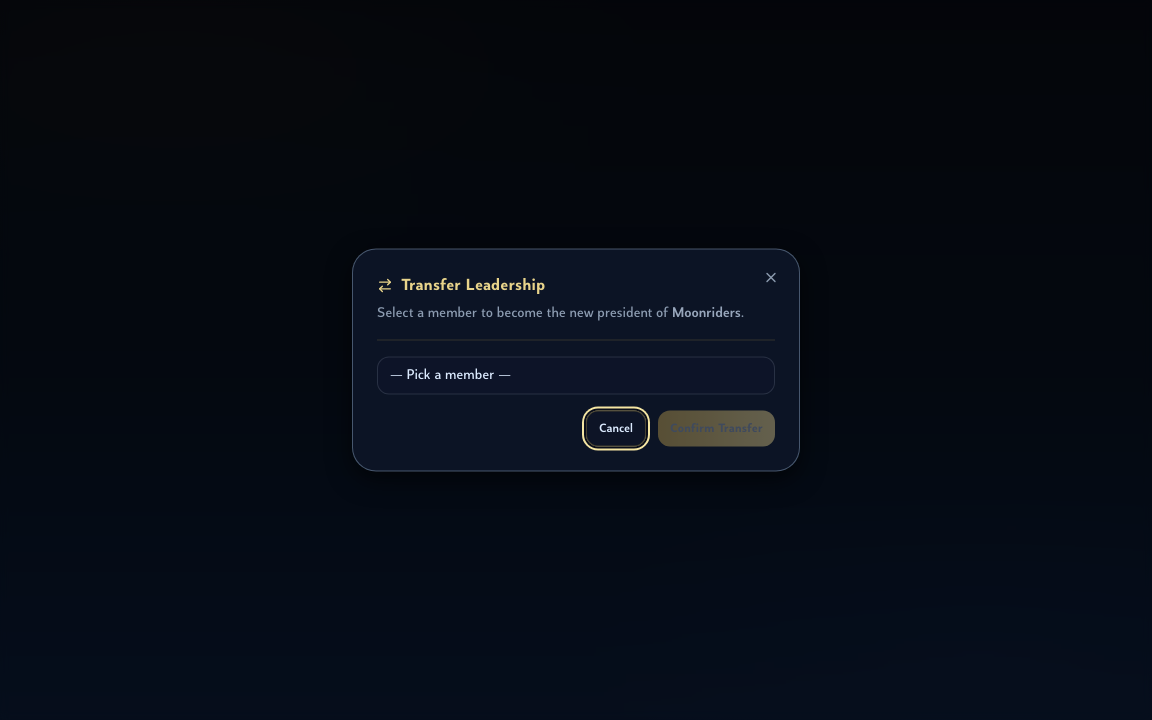
TransferLeadershipModal — failed transfer (Equoria-mr1kq) › shows mapped copy for a refusal
Step 1. Select "Second (member)" in the dropdown with test id "transfer-member-select" → (576, 376), box [377,356,775,394]
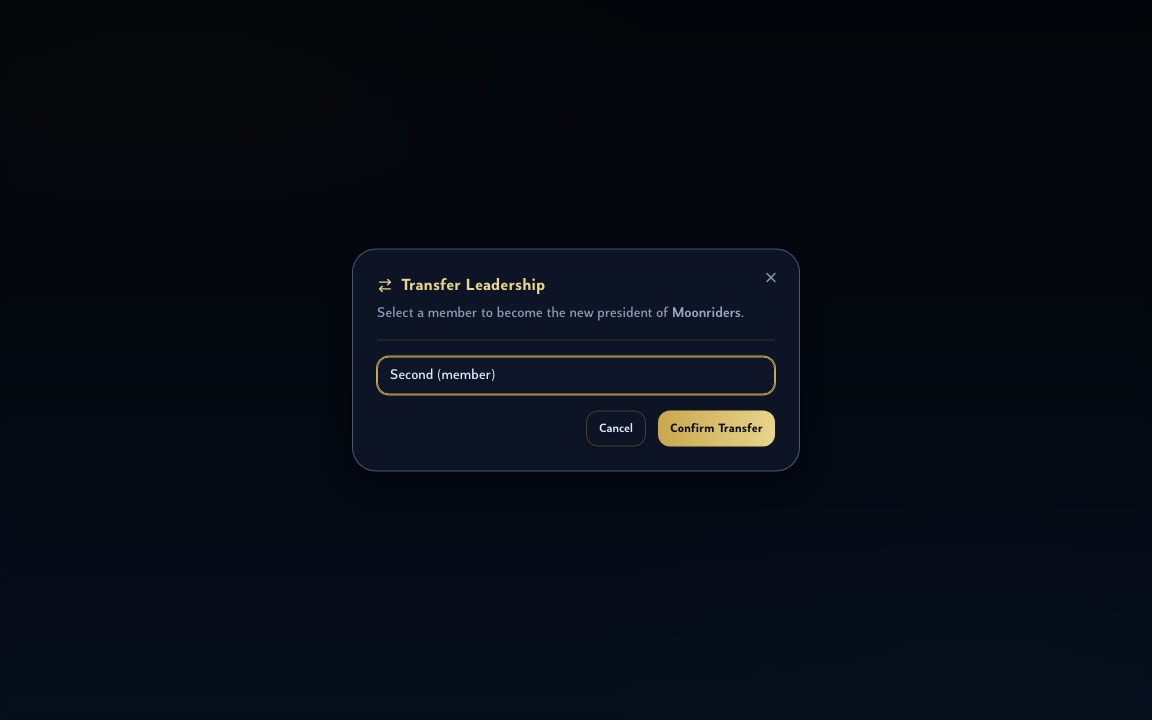
Step 2. Click the button with test id "transfer-confirm-btn" → click(716, 428), box [658,410,775,446]
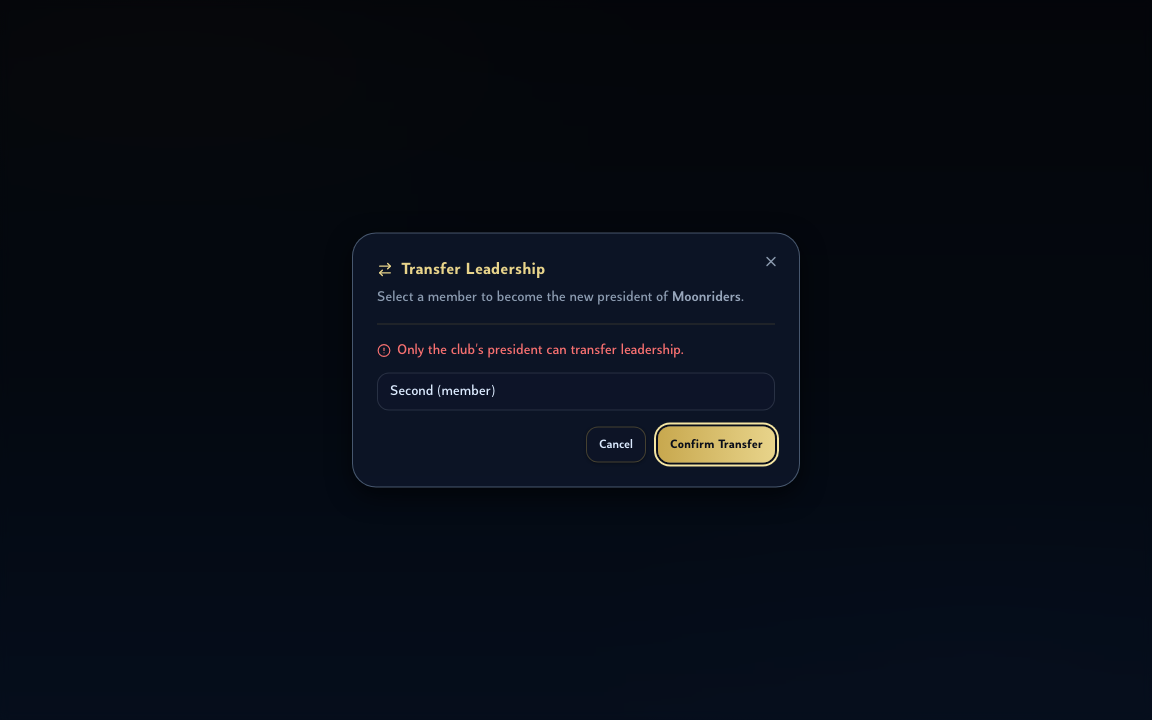
Now the text "Only the club's president can transfer leadership." is shown, box [397,340,684,360]
